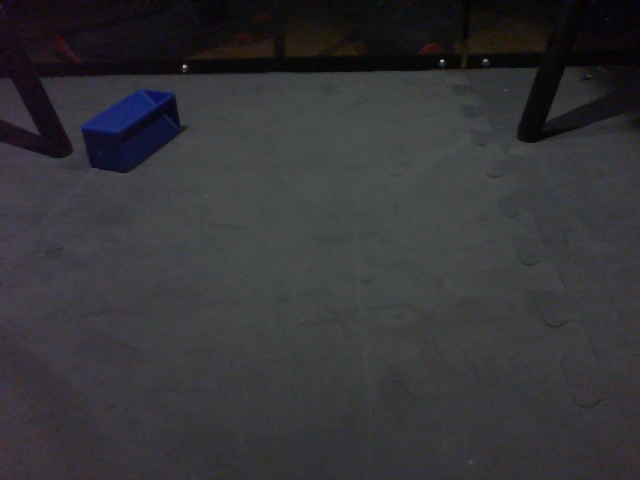BlueSample: (78, 88, 184, 175)
